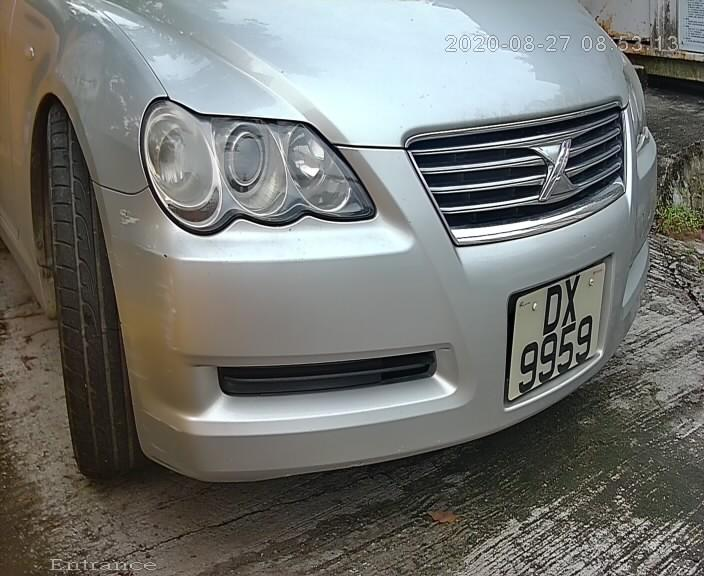License Plate: (489, 237, 624, 419)
